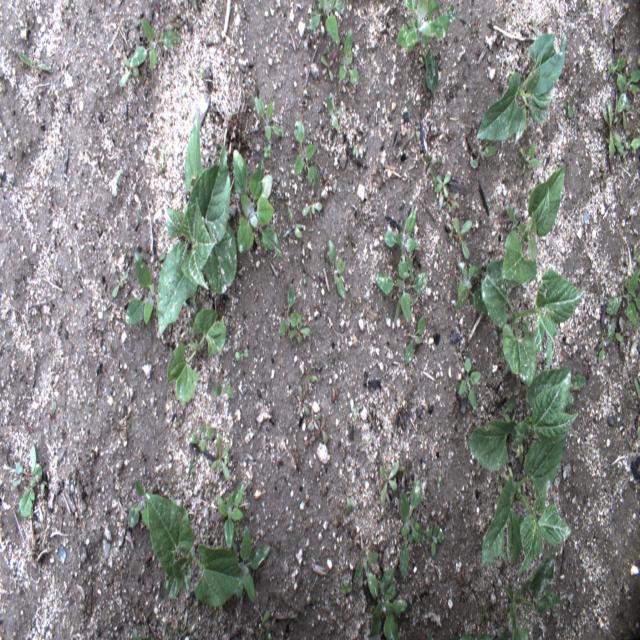crop: (469, 363, 580, 572), (156, 109, 238, 337), (477, 251, 589, 391), (144, 490, 246, 608), (472, 36, 570, 144), (498, 164, 564, 288), (502, 542, 564, 640), (164, 311, 228, 404)
weed: (394, 1, 458, 97), (233, 150, 283, 253), (372, 254, 432, 328), (231, 522, 272, 606), (362, 565, 410, 636), (384, 206, 425, 284), (129, 21, 183, 73), (124, 250, 160, 326), (215, 478, 248, 558), (603, 256, 639, 328), (276, 282, 312, 350), (397, 480, 421, 578), (10, 445, 41, 519), (304, 1, 346, 49), (292, 118, 320, 186), (455, 265, 489, 319), (126, 475, 154, 535), (450, 210, 477, 268), (600, 97, 625, 158), (615, 62, 640, 123), (403, 312, 431, 365), (338, 25, 361, 89), (459, 355, 484, 411), (253, 100, 284, 144), (355, 539, 384, 586), (211, 433, 236, 485), (375, 457, 402, 504), (328, 237, 347, 303), (605, 49, 628, 103), (304, 402, 331, 445), (422, 522, 447, 564), (322, 93, 344, 138), (520, 135, 543, 177), (617, 107, 635, 160), (467, 142, 501, 170), (560, 82, 584, 121), (593, 316, 614, 358), (190, 424, 218, 453), (18, 53, 52, 76), (285, 206, 306, 243), (434, 165, 452, 200), (121, 53, 140, 86), (111, 266, 130, 298), (297, 200, 325, 220), (296, 383, 312, 418), (212, 379, 236, 400), (256, 609, 272, 635), (321, 58, 336, 85), (232, 348, 249, 362), (264, 135, 272, 159)
